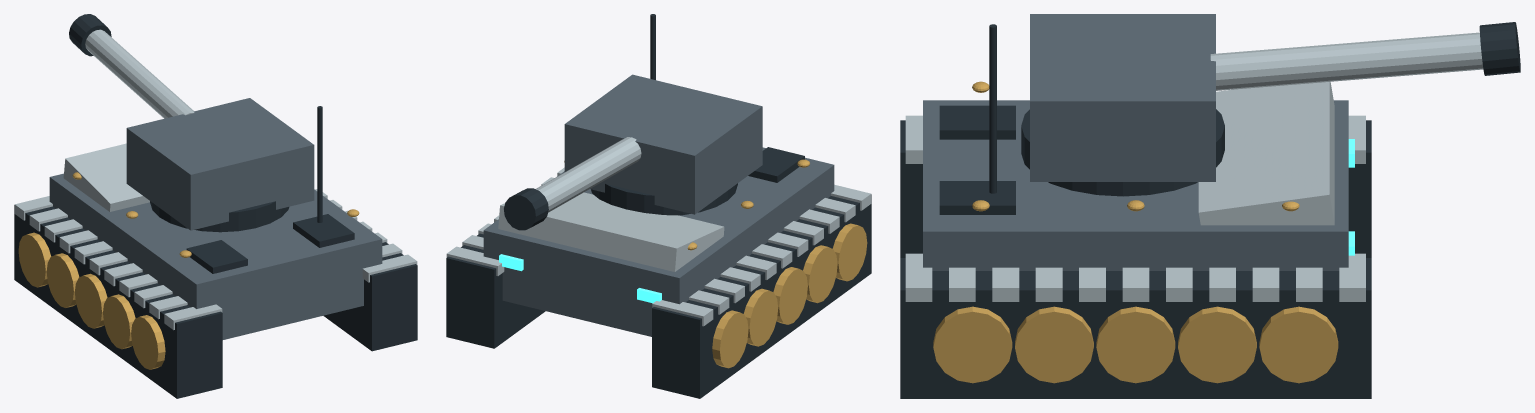
The model's file is shield-tank.glb.
3 renders of one model, left to right at view 1: azimuth 30°, elevation 25°; view 2: azimuth 150°, elevation 25°; view 3: azimuth 270°, elevation 25°, orthographic. The views are drawn at different scales.
Parts seen in each view (by area): view 1: armored lower hull, turret upper armor, carbon continuous track, carbon continuous track.001, sloped glacis, main cannon, turret ring, track road wheel, track road wheel.001, track road wheel.004, track road wheel.002, track road wheel.003 (+16 smaller); view 2: armored lower hull, turret upper armor, carbon continuous track, sloped glacis, carbon continuous track.001, main cannon, turret ring, track road wheel.004, track road wheel.003, track road wheel, track road wheel.001, track road wheel.002 (+15 smaller); view 3: armored lower hull, turret upper armor, carbon continuous track.001, sloped glacis, main cannon, track road wheel.007, track road wheel.009, track road wheel.005, track road wheel.006, track road wheel.008, carbon continuous track, rear engine grill (+17 smaller).
Part boxes in pixels (bbox=[...]): armored lower hull: bbox=[49, 173, 382, 339]; turret upper armor: bbox=[126, 98, 314, 230]; carbon continuous track: bbox=[14, 205, 222, 398]; carbon continuous track.001: bbox=[323, 242, 417, 351]; sloped glacis: bbox=[63, 143, 149, 211]; main cannon: bbox=[85, 29, 194, 118]; turret ring: bbox=[150, 201, 289, 232]; track road wheel: bbox=[131, 315, 165, 369]; track road wheel.001: bbox=[103, 294, 135, 349]; track road wheel.004: bbox=[18, 232, 51, 287]; track road wheel.002: bbox=[75, 273, 107, 328]; track road wheel.003: bbox=[46, 253, 79, 307]; armored lower hull: bbox=[483, 147, 834, 336]; turret upper armor: bbox=[564, 74, 762, 214]; carbon continuous track: bbox=[652, 194, 871, 398]; sloped glacis: bbox=[498, 192, 724, 271]; carbon continuous track.001: bbox=[446, 233, 545, 348]; main cannon: bbox=[535, 137, 641, 212]; turret ring: bbox=[591, 183, 737, 215]; track road wheel.004: bbox=[712, 310, 748, 368]; track road wheel.003: bbox=[743, 288, 778, 346]; track road wheel: bbox=[832, 223, 867, 281]; track road wheel.001: bbox=[803, 245, 837, 303]; track road wheel.002: bbox=[773, 267, 807, 324]; armored lower hull: bbox=[923, 100, 1348, 270]; turret upper armor: bbox=[1030, 14, 1215, 181]; carbon continuous track.001: bbox=[900, 258, 1371, 398]; sloped glacis: bbox=[1198, 81, 1334, 225]; main cannon: bbox=[1210, 32, 1483, 90]; track road wheel.007: bbox=[1096, 306, 1175, 383]; track road wheel.009: bbox=[1259, 306, 1338, 383]; track road wheel.005: bbox=[933, 306, 1012, 383]; track road wheel.006: bbox=[1015, 306, 1093, 383]; track road wheel.008: bbox=[1178, 306, 1256, 383]; carbon continuous track: bbox=[900, 120, 1371, 257]; rear engine grill: bbox=[939, 105, 1015, 139].
Bounding box in the file's own units: 1.68 × 1.42 × 2.44.
